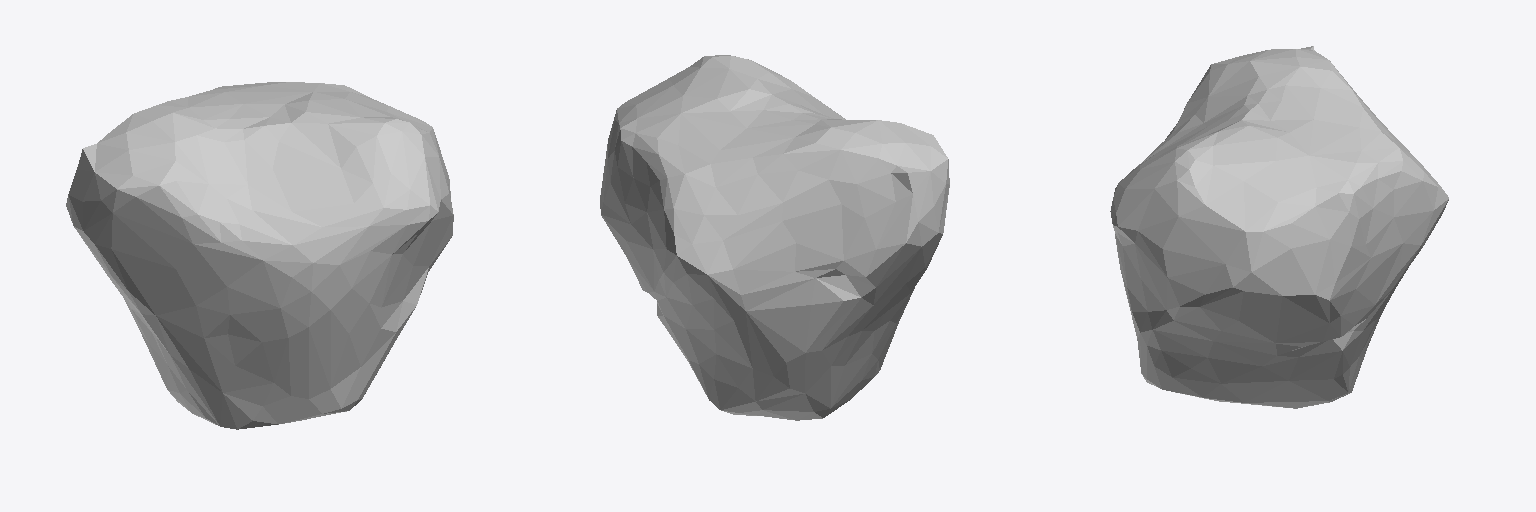
Rendered from Rock2.obj.
The picture shows the model from 3 angles: view 1: azimuth 30°, elevation 25°; view 2: azimuth 150°, elevation 25°; view 3: azimuth 270°, elevation 25°; orthographic projection.
Parts seen in each view (by area): view 1: Rock2; view 2: Rock2; view 3: Rock2.
Part boxes in pixels (left/top/right/bottom): Rock2: left=66, top=82, right=453, bottom=429; Rock2: left=600, top=55, right=949, bottom=420; Rock2: left=1110, top=46, right=1448, bottom=408.
Bounding box in the file's own units: 12.02 × 10.29 × 10.29.